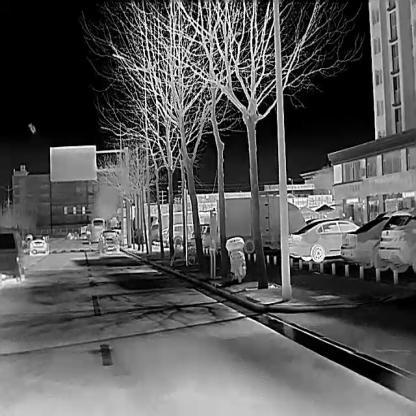car: (215, 194, 306, 253), (286, 217, 388, 262), (340, 215, 416, 268), (196, 207, 269, 250), (377, 207, 415, 271), (147, 209, 209, 244), (0, 227, 25, 281), (156, 222, 205, 245), (97, 229, 120, 254), (89, 216, 107, 243), (29, 234, 50, 255)
